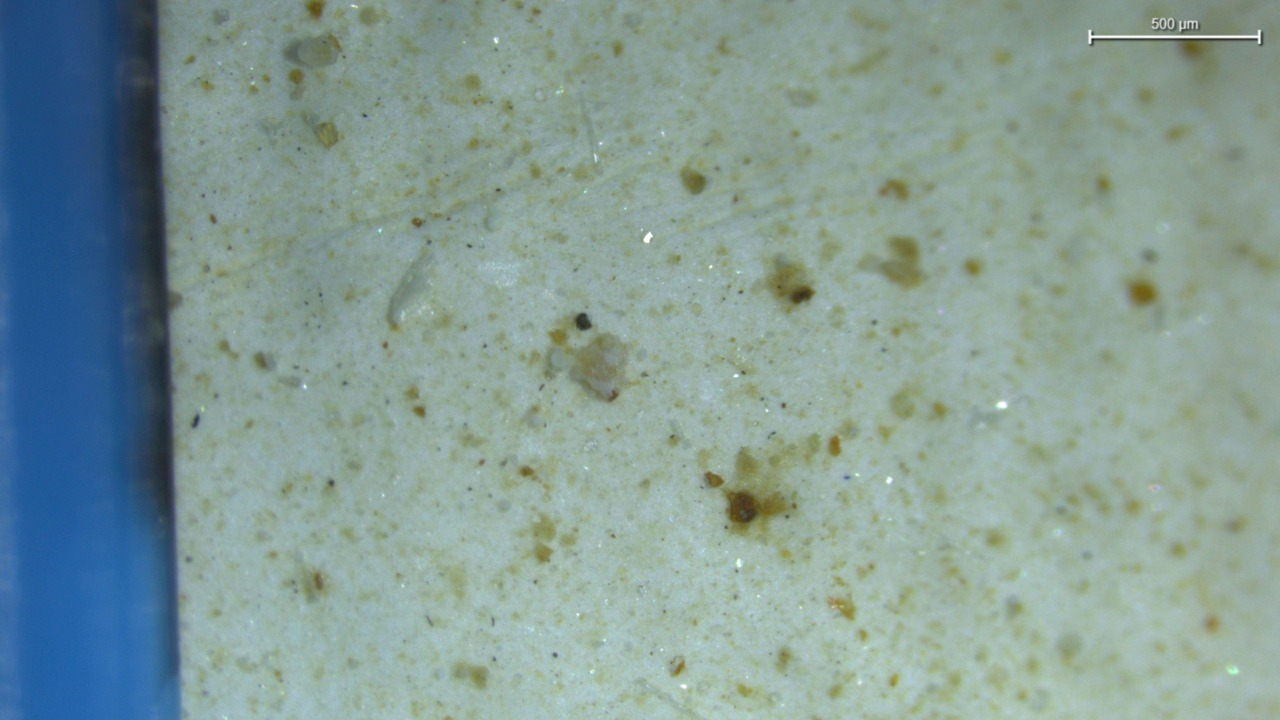microplastic_fragment: (387, 245, 435, 326)
